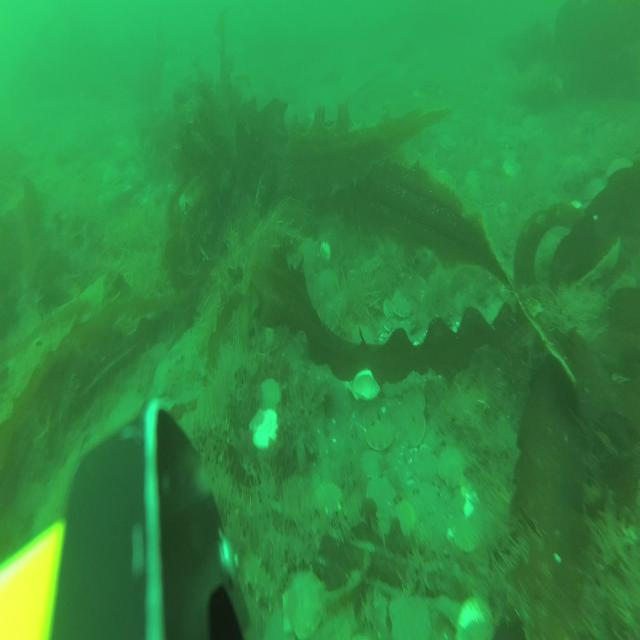holothurian: (238, 545, 282, 616)
scallop: (280, 567, 326, 640), (385, 583, 432, 640), (455, 589, 499, 640), (436, 438, 469, 494), (363, 472, 397, 521), (247, 404, 281, 452), (346, 368, 383, 409), (151, 353, 179, 402), (312, 480, 344, 518), (366, 418, 396, 454), (404, 408, 426, 452), (260, 375, 284, 413), (390, 286, 416, 321), (404, 383, 426, 420), (318, 265, 340, 294), (501, 155, 523, 180), (439, 131, 460, 153), (363, 253, 383, 276), (380, 296, 395, 322)
